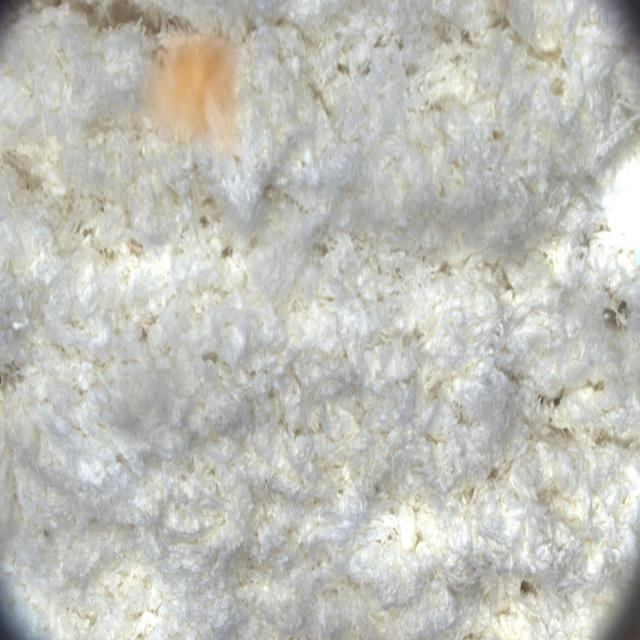dust: (136, 15, 253, 159)
